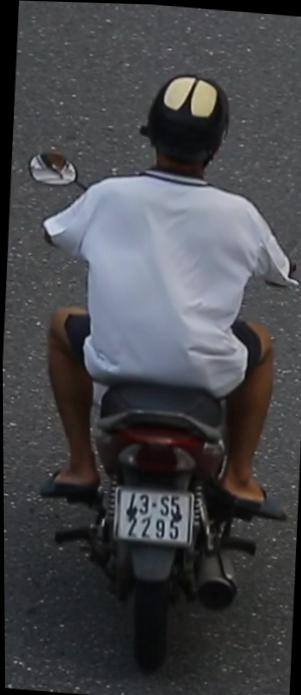LP: (110, 482, 197, 552)
helmet: (135, 67, 233, 195)
